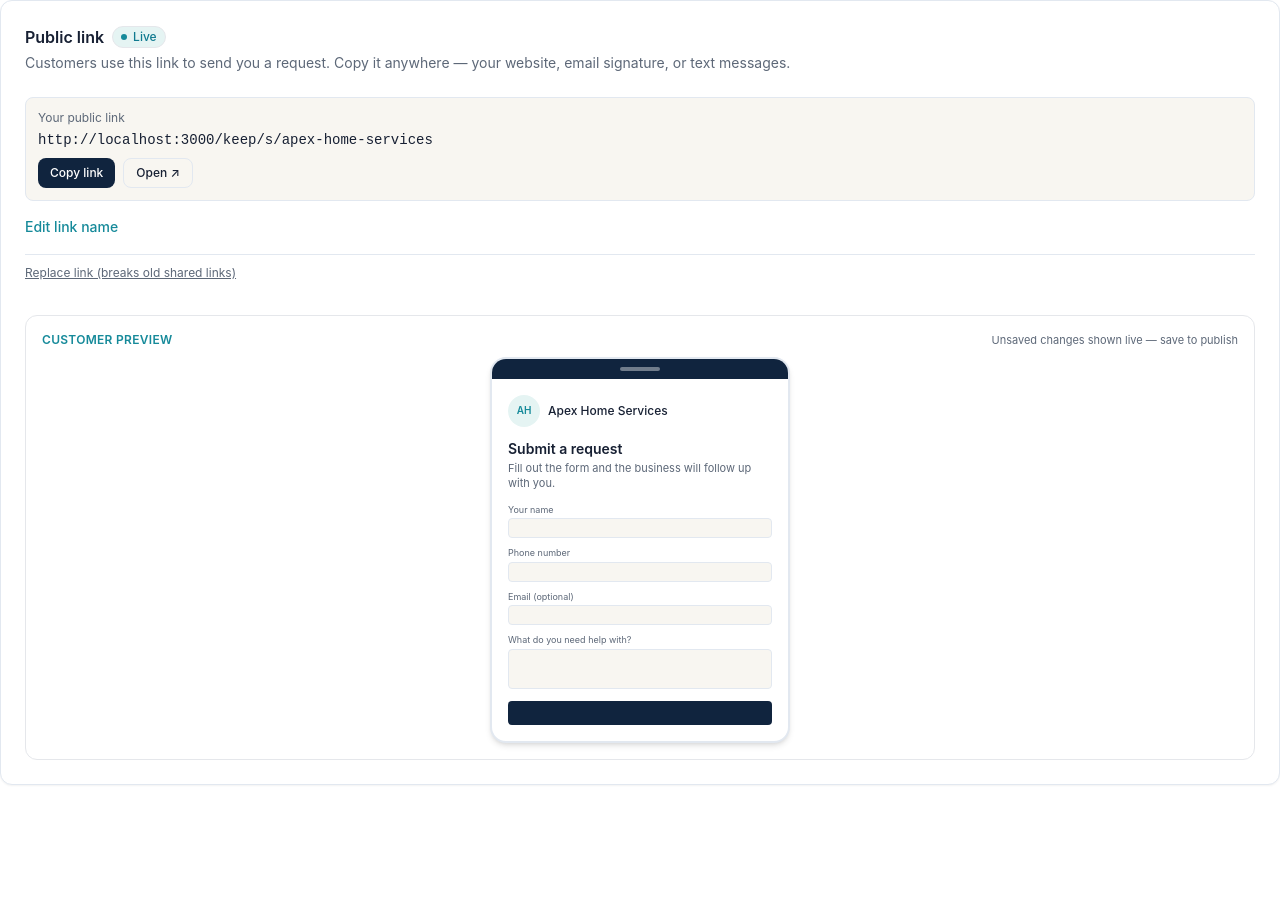
it: PublicLinkSection replace-link dialog › surfaces a server confirmation-mismatch error and leaves the dialog open
Click the button "Replace link (breaks old shared links)" at (130, 273), box [25, 265, 236, 281]
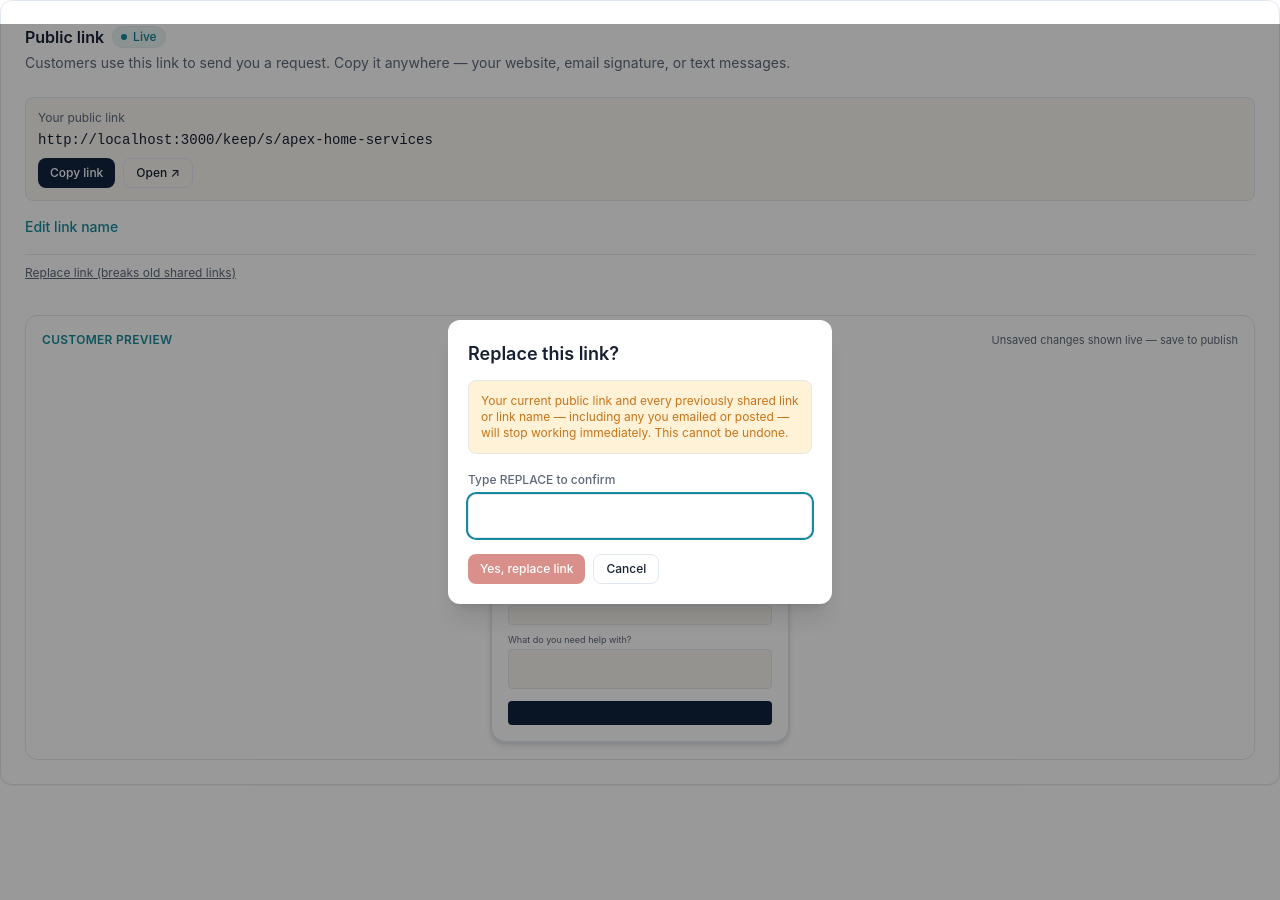
Type "REPLACE" into the field labelled "Type REPLACE to confirm" at (640, 516), box [468, 494, 812, 538]
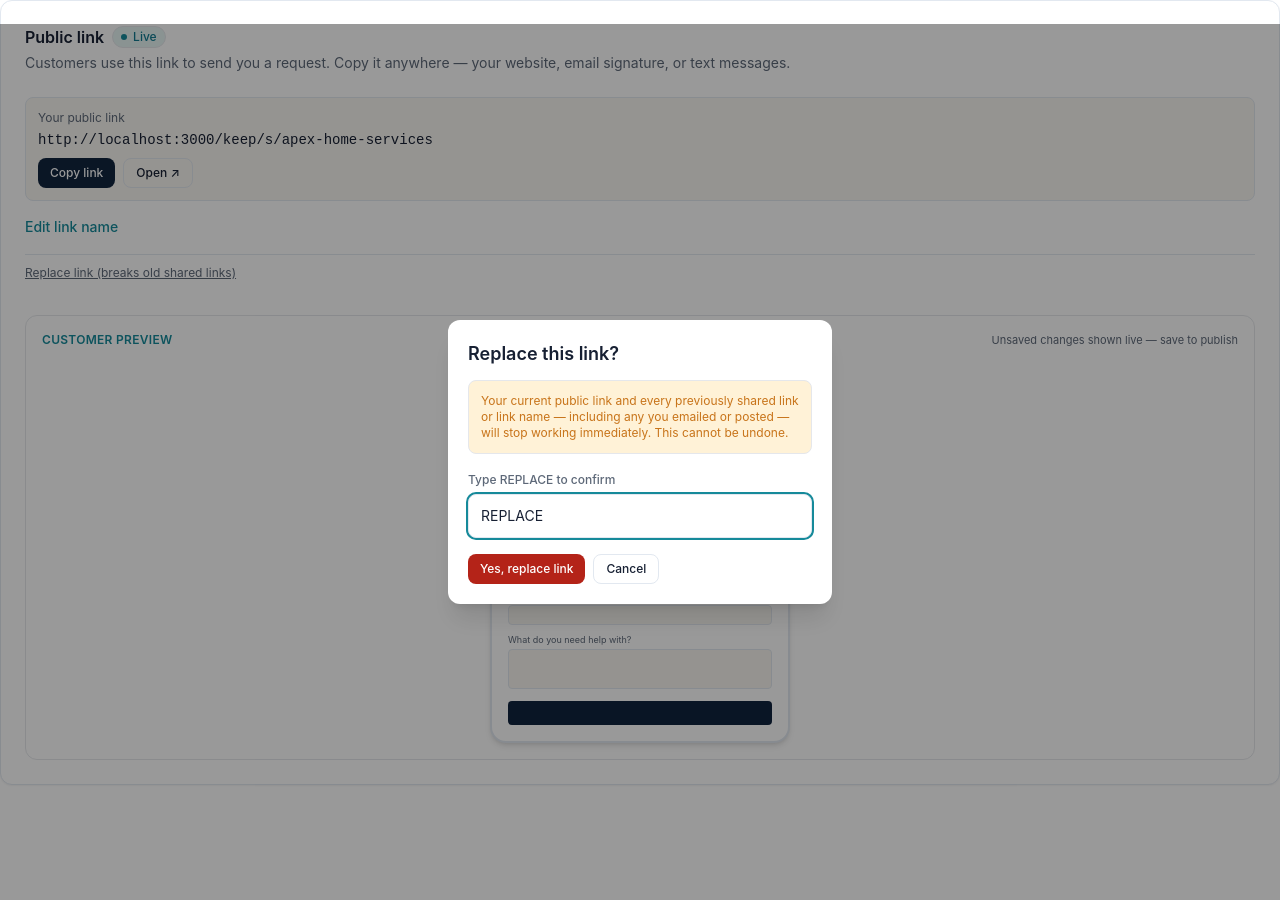
Click the button "Yes, replace link" at (527, 569), box [468, 554, 585, 584]
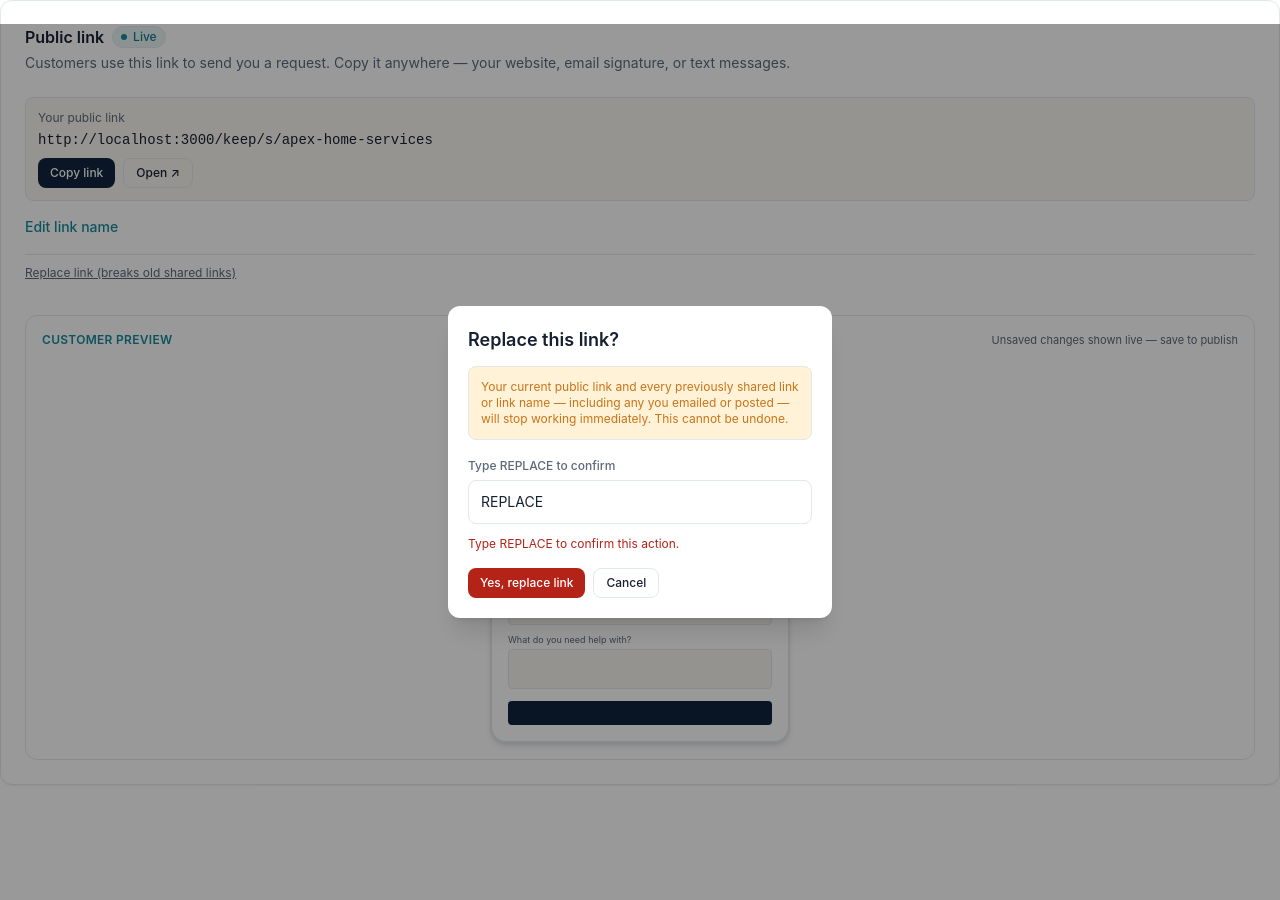
expect the dialog is shown: met
expect the text "Type REPLACE to confirm this action." is shown: met, box [468, 536, 679, 551]
